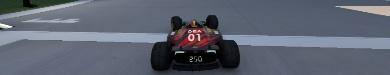Car: (150, 14, 240, 71)
